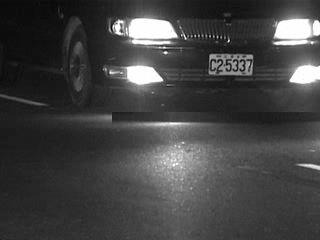plate: (208, 51, 254, 78)
